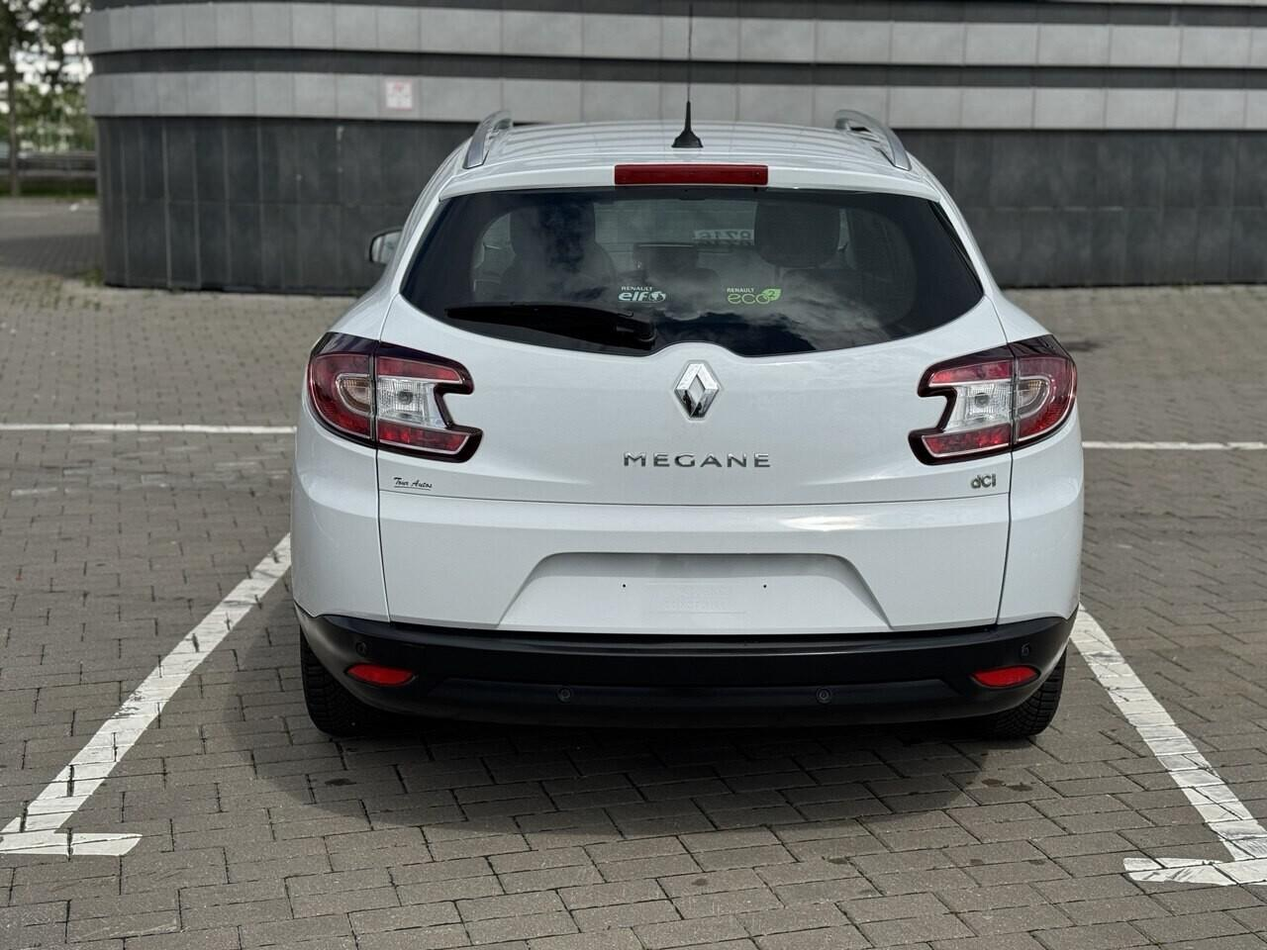Megane_2012-2014: (290, 116, 1088, 758)
